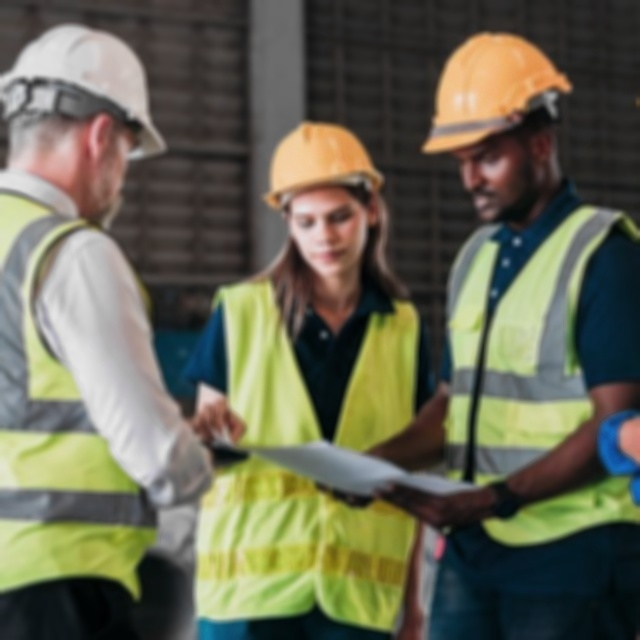Con_Casco: (0, 23, 163, 213), (424, 30, 568, 222), (261, 121, 384, 270)
Con_Chaleco: (205, 282, 420, 635), (0, 181, 158, 597), (451, 213, 640, 535)
